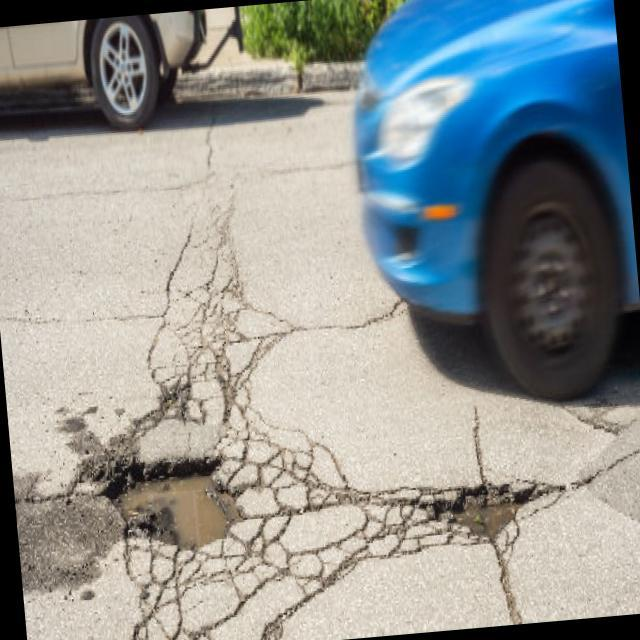Pothole: (94, 441, 240, 556), (433, 477, 544, 558)
